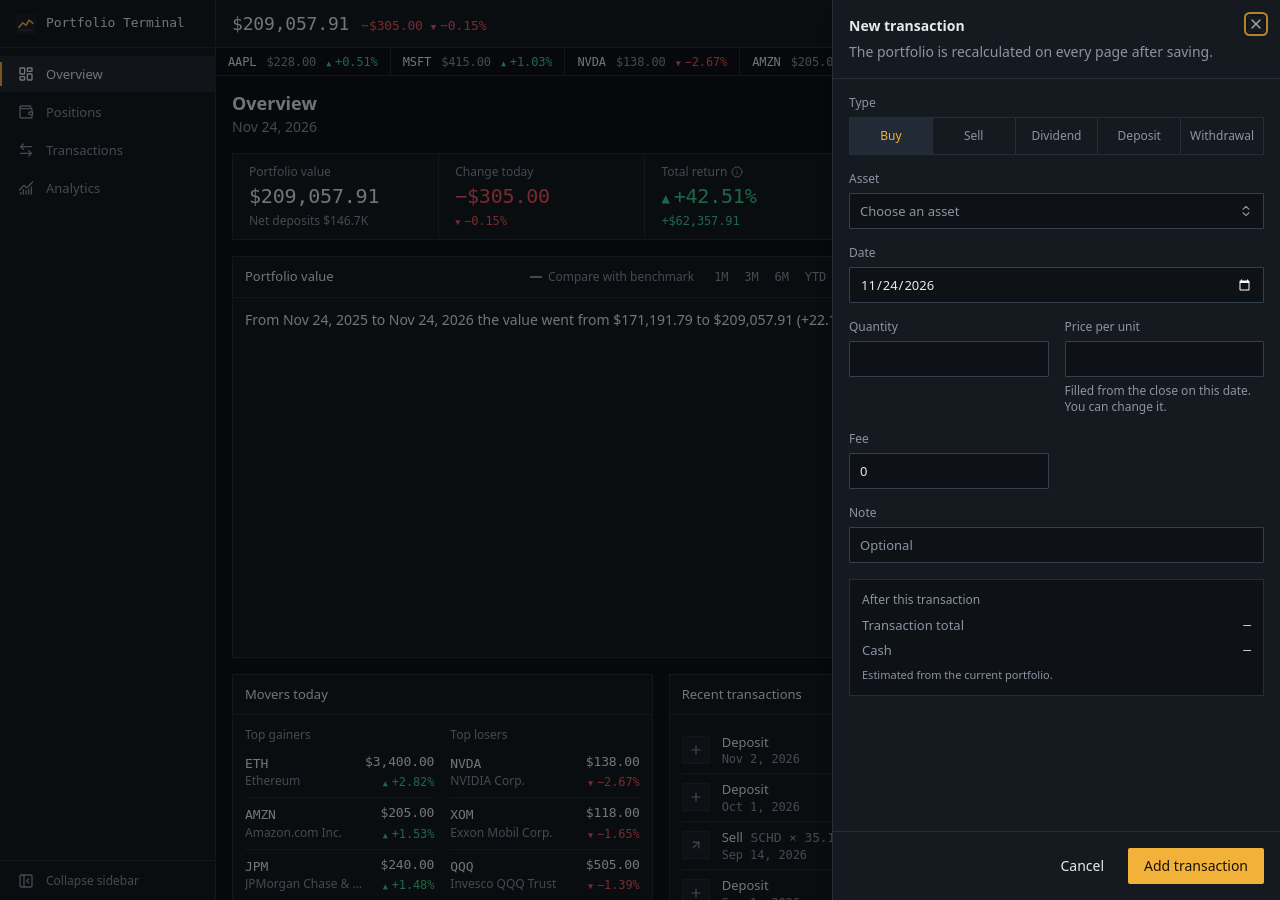
TransactionForm › shows fields that depend on the transaction type
Check: the button "Add transaction" is shown, box [1128,848,1264,884]
Check: the dropdown labelled "asset" is shown, box [849,193,1264,229]
Click the radio button labelled "Deposit": (1139, 136) [1098,118,1180,154]
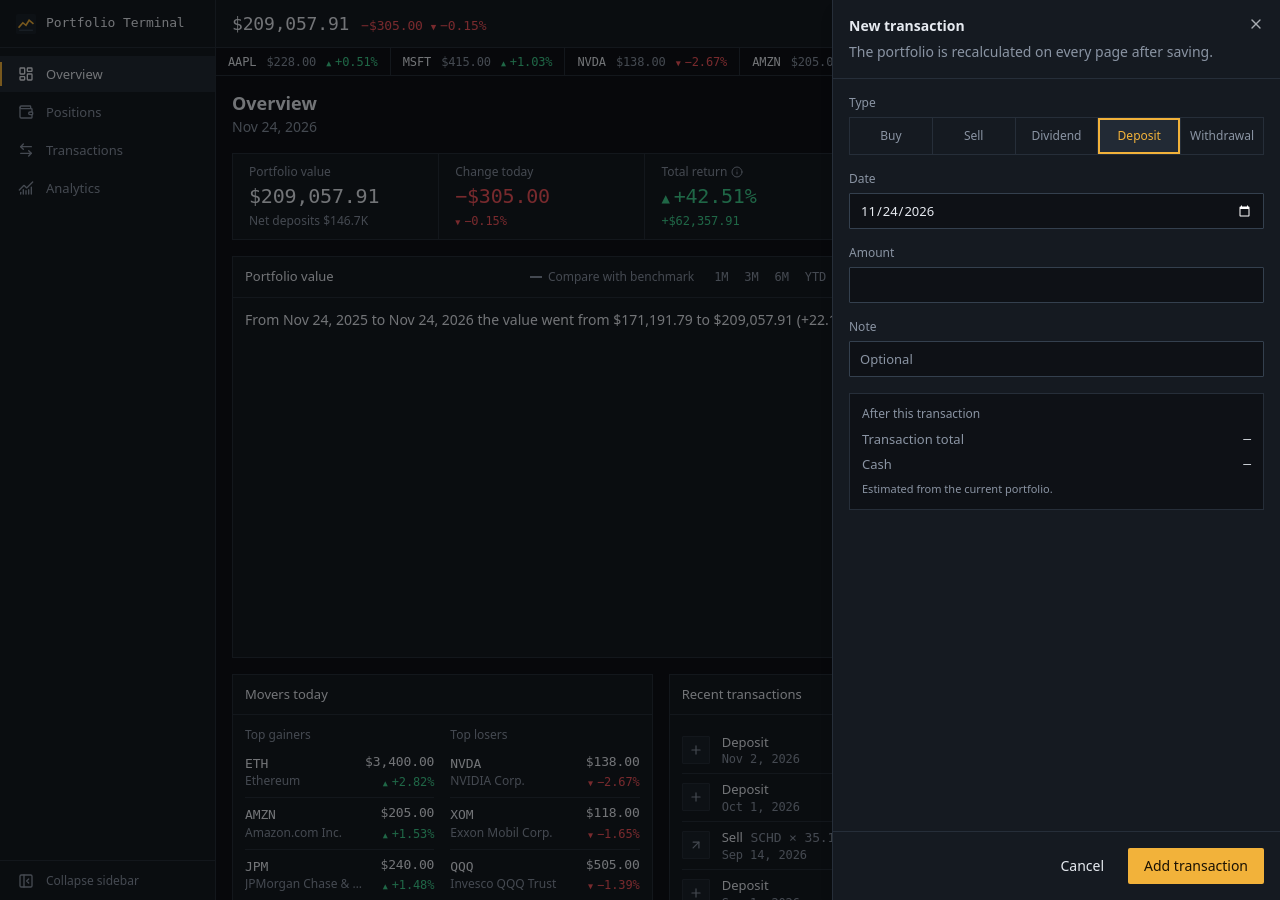
Check: the label labelled "Quantity" is gone
Check: the field labelled "Amount" is shown, box [849,267,1264,303]
Click the radio button labelled "Dividend": (1056, 136) [1016,118,1097,154]
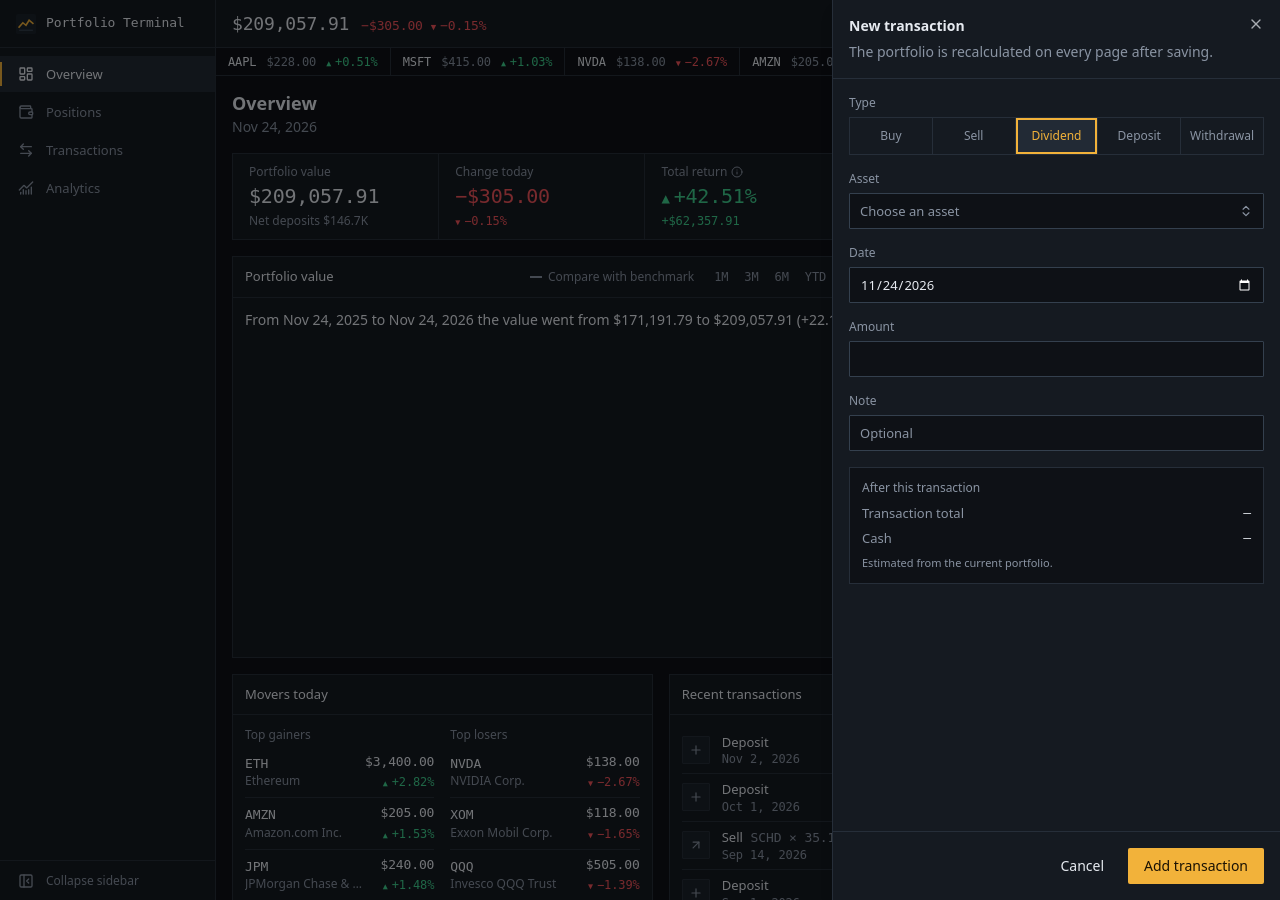
Check: the field labelled "Amount" is shown, box [849,341,1264,377]
Check: the dropdown labelled "asset" is shown, box [849,193,1264,229]
